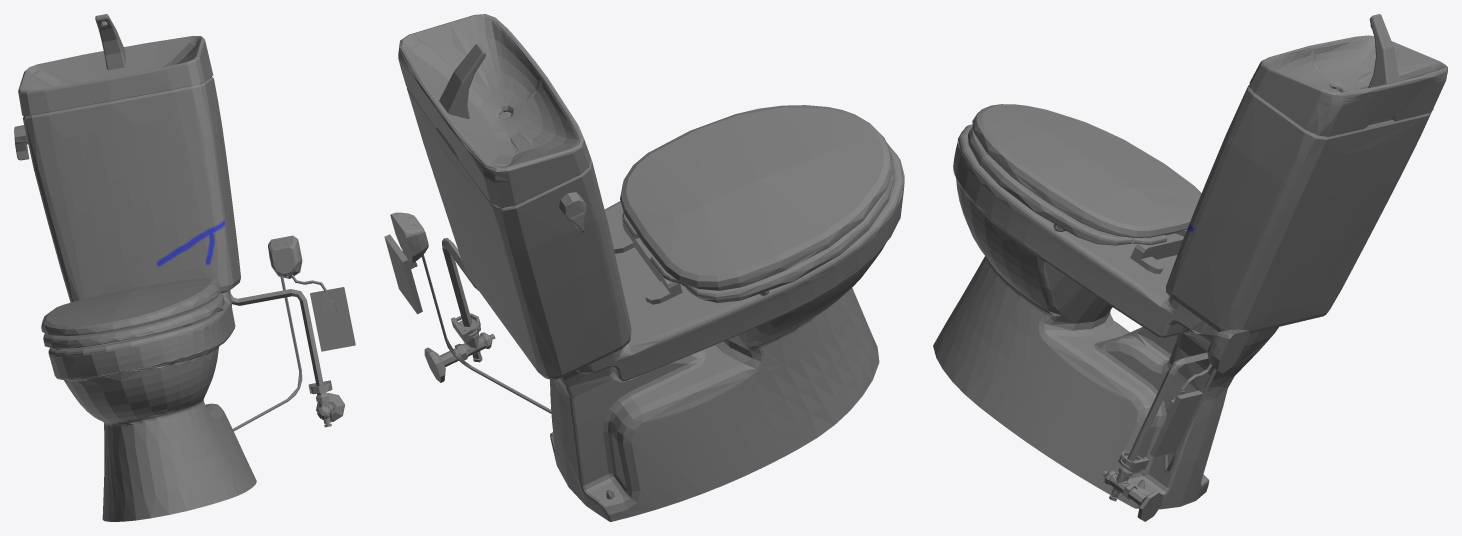
The picture shows the model from 3 angles, left to right: view 1: azimuth 30°, elevation 25°; view 2: azimuth 150°, elevation 25°; view 3: azimuth 270°, elevation 25°; orthographic projection. The views are drawn at different scales.
Parts seen in each view (by area): view 1: node_id3; view 2: node_id3; view 3: node_id3.
Boxes of the visible parts, x1,y1,x2,y2 form: node_id3: (14,14,355,521); node_id3: (384,14,904,521); node_id3: (933,14,1447,521).
Size of the model in its own units: 0.4167 by 0.4921 by 0.4638.
Materials: 1 (1 with a texture image).
